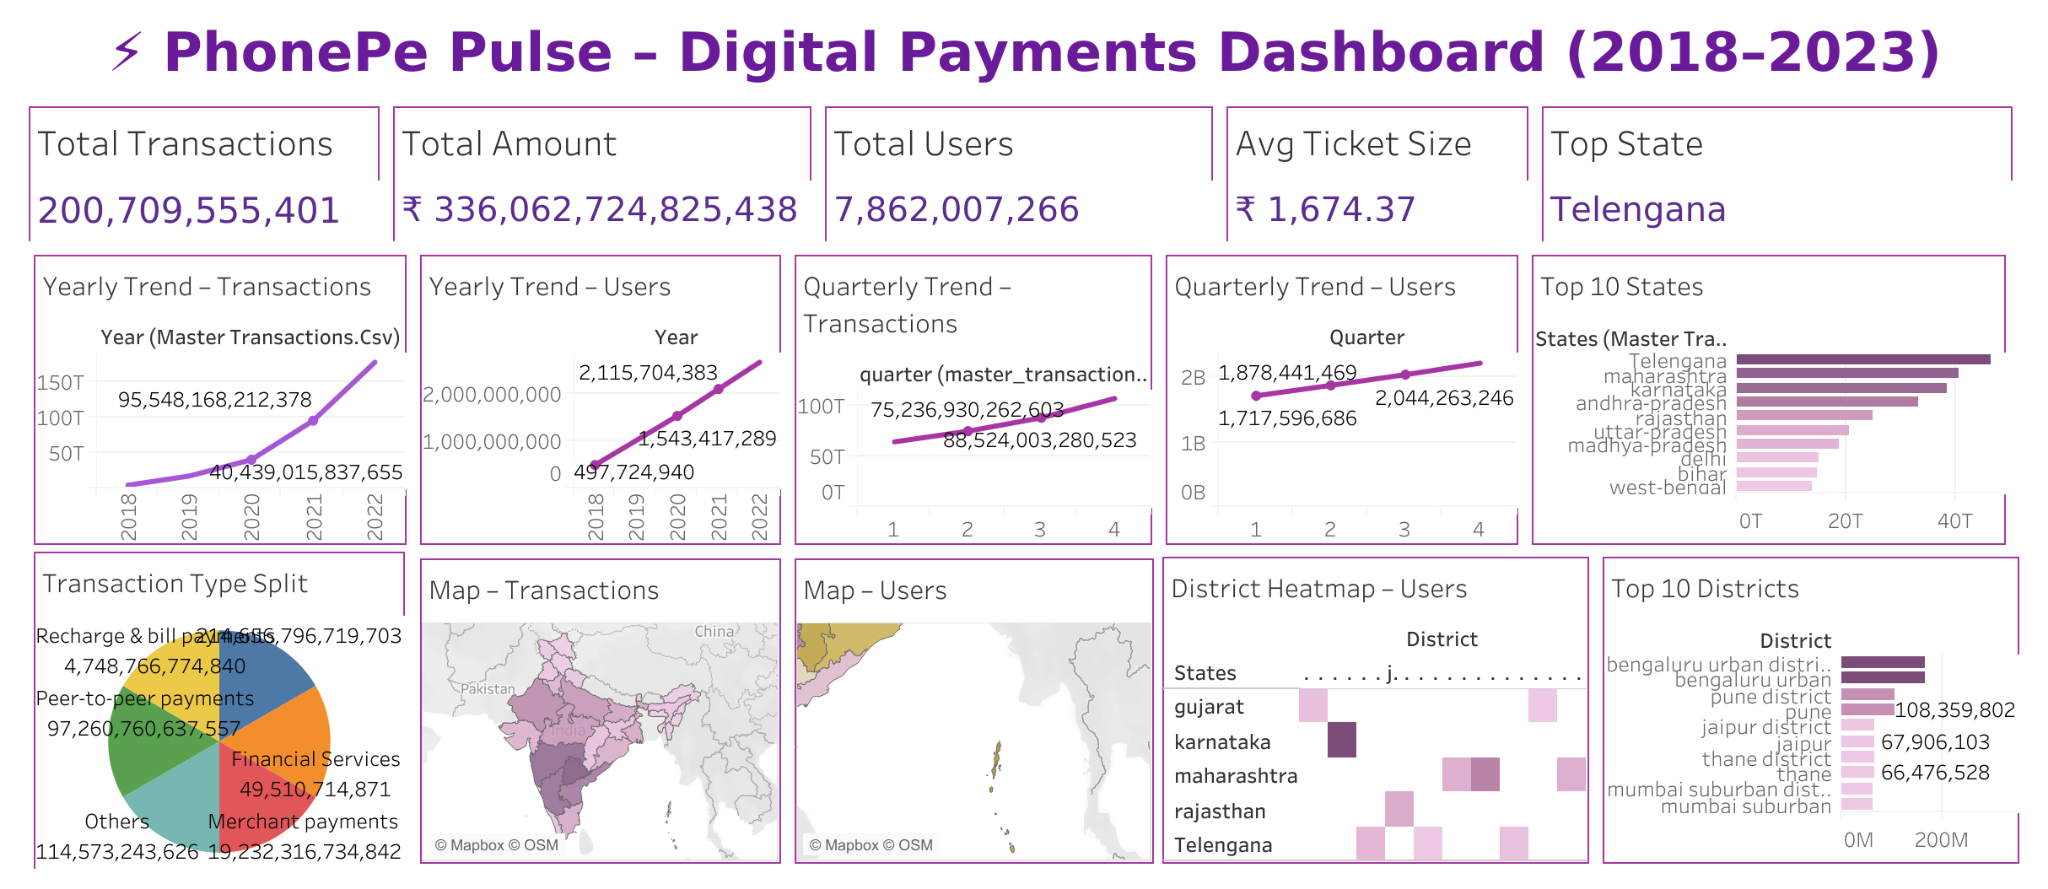

This screenshot's page, from the dashboard's own definition file:
{"tool":"tableau","page":{"name":"Dashboard 2","canvas":[1000,1000],"units":"permille","ordinal":0},"visuals":[{"type":"title","box":[7.2,13.9,985.6,88.5]},{"type":"worksheet","title":"Total Transactions","mark":"Automatic","box":[11.1,111.1,194.8,166.7]},{"type":"worksheet","title":"Total Amount","mark":"Automatic","box":[205.8,111.1,230.8,166.7]},{"type":"worksheet","title":"Total Users","mark":"Automatic","box":[436.7,111.1,214.6,166.7]},{"type":"worksheet","title":"Avg Ticket Size","mark":"Automatic","box":[651.3,111.1,168.6,166.7]},{"type":"worksheet","title":"Top State","mark":"Automatic","box":[819.9,111.1,165.3,166.7]},{"type":"worksheet","title":"Yearly Trend – Transactions","mark":"Line","rows":["amount"],"cols":["year (master_transactions.csv)"],"box":[12.9,277.8,189.1,342]},{"type":"worksheet","title":"Yearly Trend – Users","mark":"Line","rows":["registered_user_counts"],"cols":["year"],"box":[202,277.8,182.2,342]},{"type":"worksheet","title":"Quarterly Trend – Transactions","mark":"Line","rows":["amount"],"cols":["quarter (master_transactions.csv)"],"box":[384.1,277.8,198.4,342]},{"type":"worksheet","title":"Quarterly Trend – Users","mark":"Line","rows":["registered_user_counts"],"cols":["quarter"],"box":[582.5,277.8,195.7,342]},{"type":"worksheet","title":"Top 10 States","mark":"Automatic","rows":["states (master_transactions.csv)"],"cols":["amount"],"box":[778.2,277.8,203.4,342]},{"type":"worksheet","title":"Transaction Type Split","mark":"Pie","box":[16.6,619.8,180.8,355.9]},{"type":"worksheet","title":"Map – Transactions","mark":"Automatic","box":[202,619.8,182.1,357.6]},{"type":"worksheet","title":"Map – Users","mark":"Automatic","box":[384.1,619.8,182.2,357.6]},{"type":"worksheet","title":"District Heatmap – Users","mark":"Square","rows":["states"],"cols":["district"],"box":[567.2,625,208.3,345.5]},{"type":"worksheet","title":"Top 10 Districts","mark":"Automatic","rows":["district"],"cols":["registered_user_counts"],"box":[781.8,625,203.8,345.5]}]}

Visuals, with their boxes on the dashboard's canvas, which has no fixed pixel size, in thousandths of its width and height (x1, y1, x2, y2). These are canvas units, not pixel positions in the 2048x889 screenshot, which may show the page scaled, cropped or inside an application window:
title: locate(7, 14, 993, 102)
"Total Transactions" worksheet: locate(11, 111, 206, 278)
"Total Amount" worksheet: locate(206, 111, 437, 278)
"Total Users" worksheet: locate(437, 111, 651, 278)
"Avg Ticket Size" worksheet: locate(651, 111, 820, 278)
"Top State" worksheet: locate(820, 111, 985, 278)
"Yearly Trend – Transactions" worksheet (Line marks): locate(13, 278, 202, 620)
"Yearly Trend – Users" worksheet (Line marks): locate(202, 278, 384, 620)
"Quarterly Trend – Transactions" worksheet (Line marks): locate(384, 278, 582, 620)
"Quarterly Trend – Users" worksheet (Line marks): locate(582, 278, 778, 620)
"Top 10 States" worksheet: locate(778, 278, 982, 620)
"Transaction Type Split" worksheet (Pie marks): locate(17, 620, 197, 976)
"Map – Transactions" worksheet: locate(202, 620, 384, 977)
"Map – Users" worksheet: locate(384, 620, 566, 977)
"District Heatmap – Users" worksheet (Square marks): locate(567, 625, 776, 970)
"Top 10 Districts" worksheet: locate(782, 625, 986, 970)
